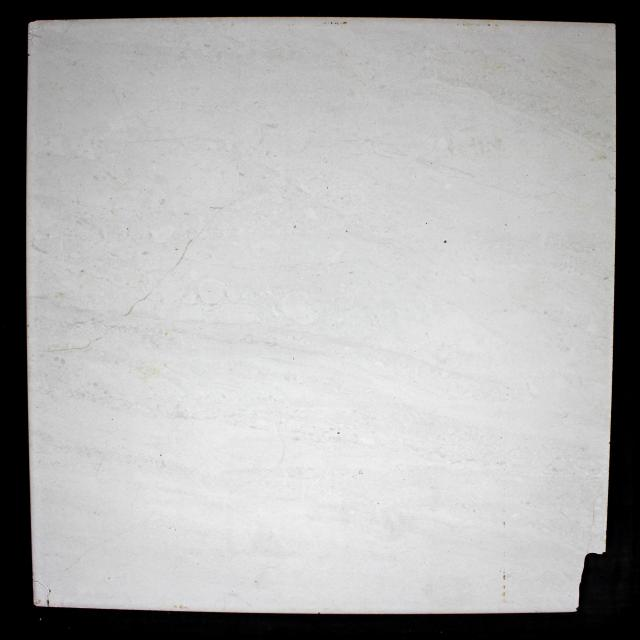edge-chipping: (576, 552, 606, 612)
hole: (443, 239, 447, 244)
line: (46, 336, 102, 353), (118, 294, 151, 318), (173, 236, 196, 269)
